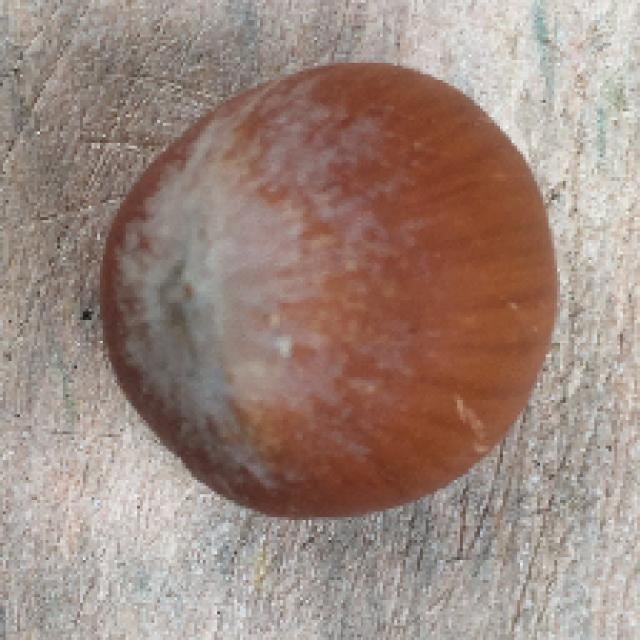qualityHazelnut: (86, 62, 565, 519)
